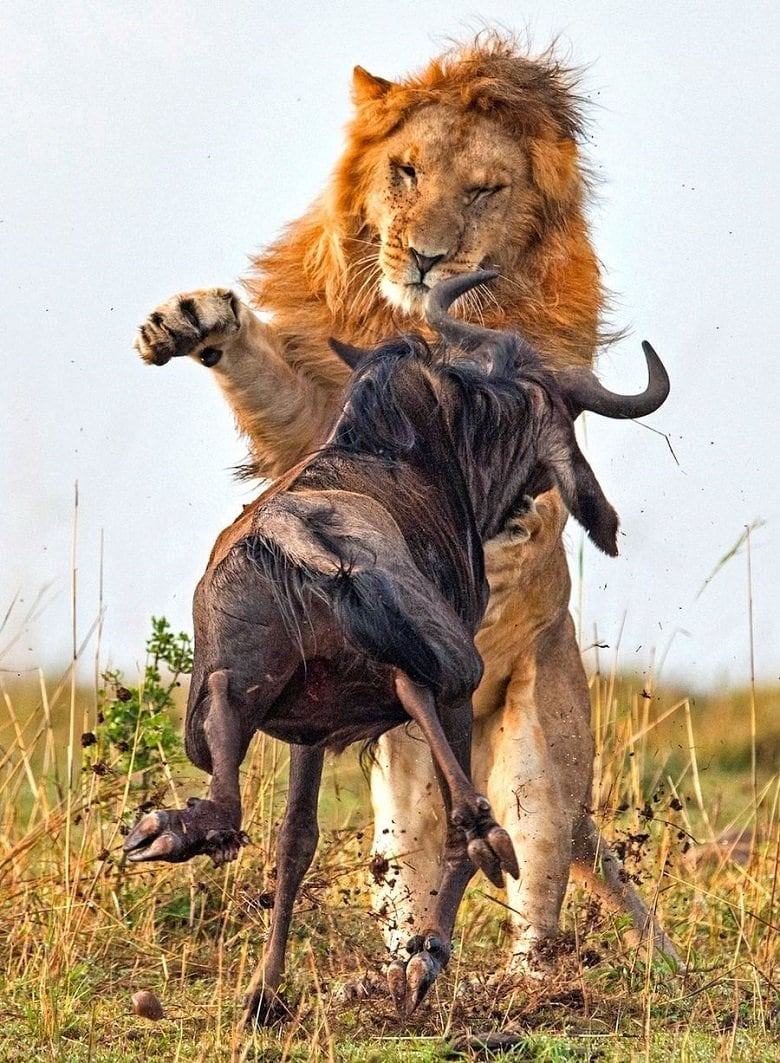buffalo: (118, 264, 671, 893)
lion: (131, 33, 681, 1016)
